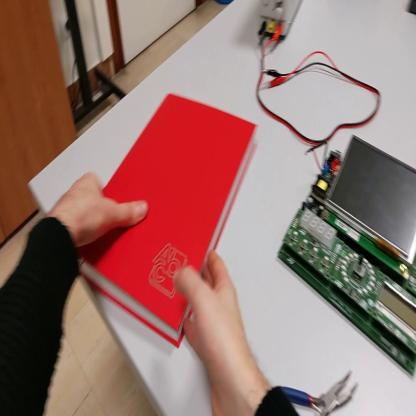hand: (175, 251, 251, 396), (48, 172, 147, 253)
low voltage board: (278, 133, 416, 374)
pliers: (282, 373, 359, 415)
power supply: (258, 1, 302, 42)
register: (85, 91, 260, 347)
